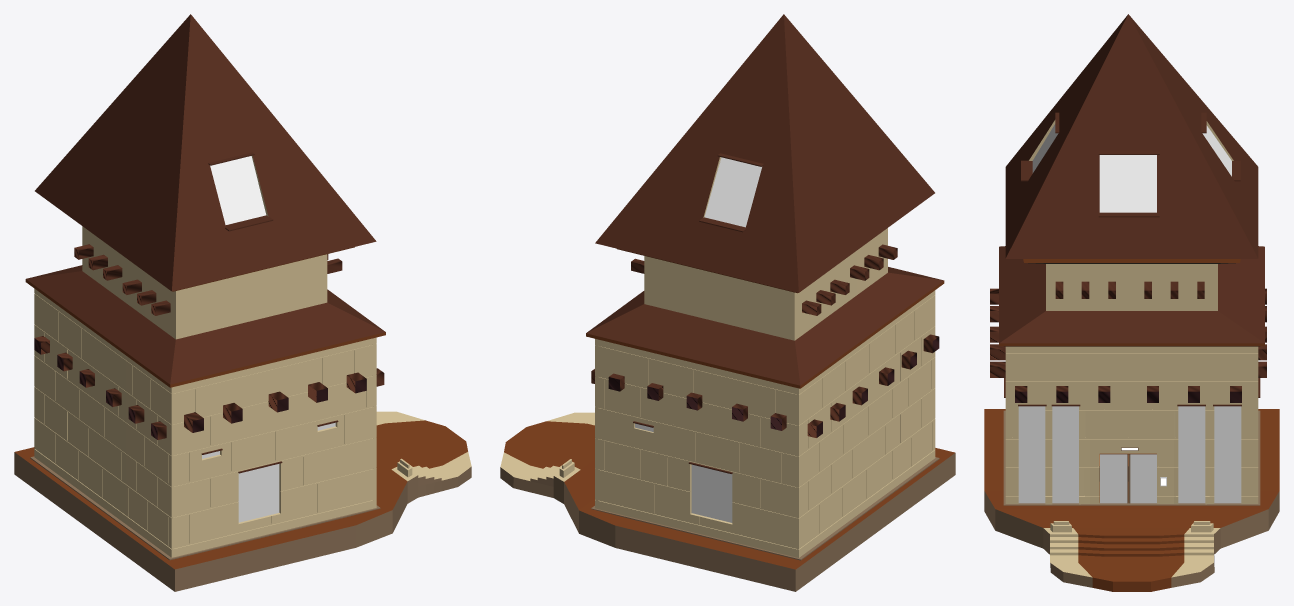
The model's file is merchantbuilding.glb.
3 views of the same model, side by side, from view 1: azimuth 30°, elevation 25°; view 2: azimuth 150°, elevation 25°; view 3: azimuth 270°, elevation 25° (orthographic). The views are drawn at different scales.
Visible parts, largest first — view 1: EXTERIOR, Fundatie, grinzi, geamuri etaj, geamuri parter, Cube, Cube.001; view 2: EXTERIOR, Fundatie, grinzi, geamuri etaj, geamuri parter, Cube, Cube.001; view 3: EXTERIOR, Fundatie, geamuri parter, geamuri etaj, grinzi, Cube.001, Usa.003, Usa.002, Cube.
Part boxes in pixels (bbox=[...]): EXTERIOR: bbox=[25, 14, 385, 557]; Fundatie: bbox=[14, 411, 471, 591]; grinzi: bbox=[34, 244, 384, 439]; geamuri etaj: bbox=[210, 156, 266, 224]; geamuri parter: bbox=[202, 422, 335, 522]; Cube: bbox=[30, 456, 380, 560]; Cube.001: bbox=[201, 152, 338, 473]; EXTERIOR: bbox=[586, 14, 944, 557]; Fundatie: bbox=[500, 412, 955, 591]; grinzi: bbox=[591, 244, 939, 437]; geamuri etaj: bbox=[704, 157, 761, 227]; geamuri parter: bbox=[635, 423, 732, 522]; Cube: bbox=[591, 457, 939, 560]; Cube.001: bbox=[633, 153, 763, 473]; EXTERIOR: bbox=[999, 14, 1264, 504]; Fundatie: bbox=[984, 409, 1279, 591]; geamuri parter: bbox=[1018, 406, 1241, 503]; geamuri etaj: bbox=[1032, 124, 1231, 212]; grinzi: bbox=[990, 281, 1266, 402]; Cube.001: bbox=[1004, 112, 1260, 406]; Usa.003: bbox=[1100, 454, 1128, 503]; Usa.002: bbox=[1129, 454, 1156, 503]; Cube: bbox=[1003, 410, 1260, 505].
Size of the model in its own units: 14.95 by 19.68 by 11.5.
